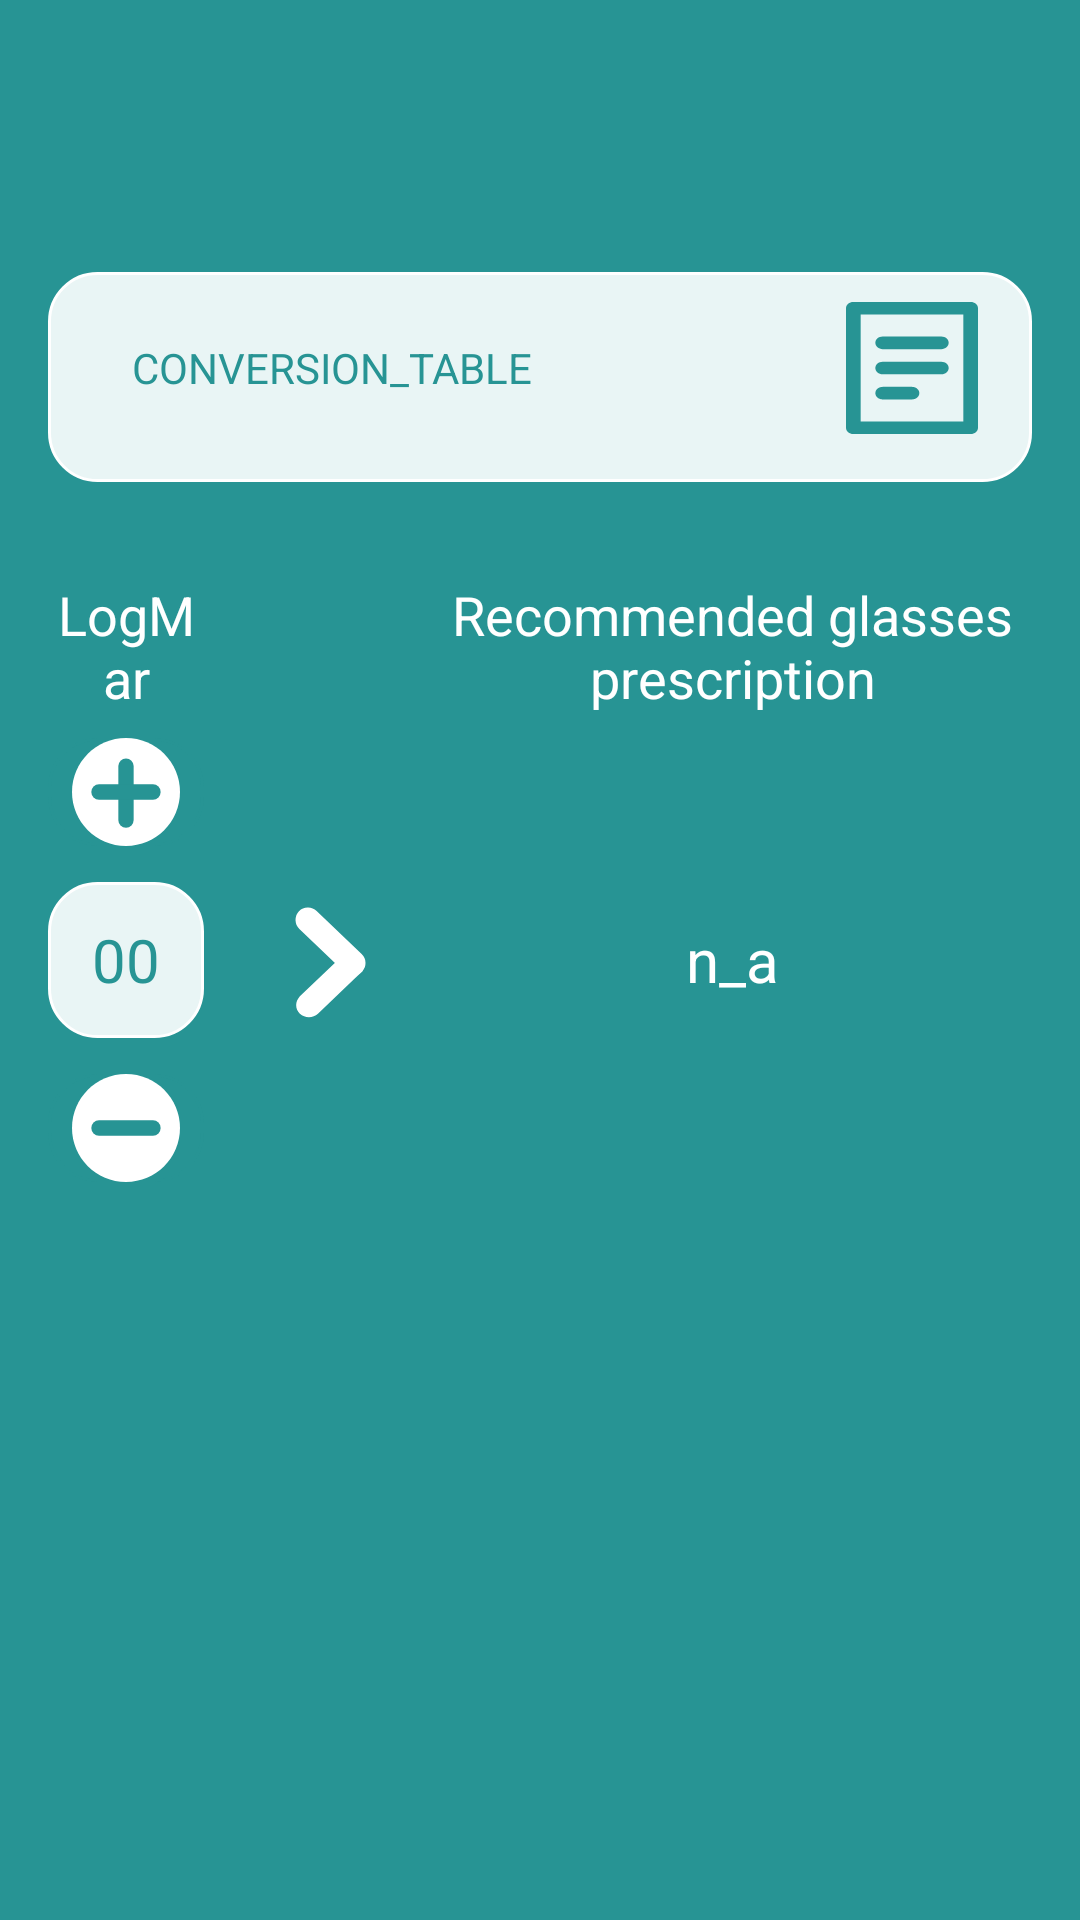

Icons on this 1080px x 1920px Android screen, each with the point to tap as point (x, y):
minus: point (126, 1128)
plus: point (126, 792)
